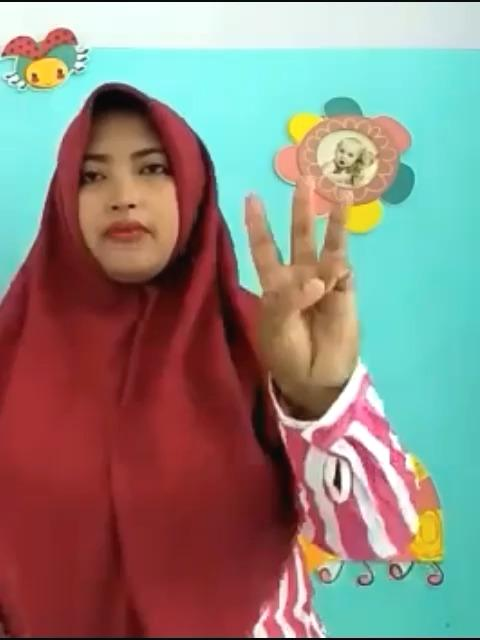W: (244, 173, 358, 391)
